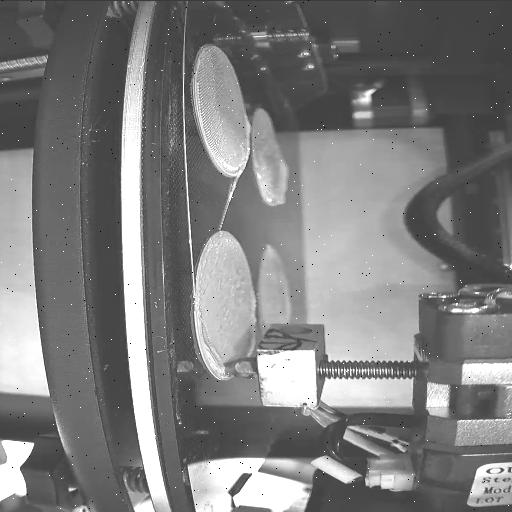over_extrusion: (274, 158, 290, 212), (203, 339, 218, 367), (244, 117, 254, 137)
